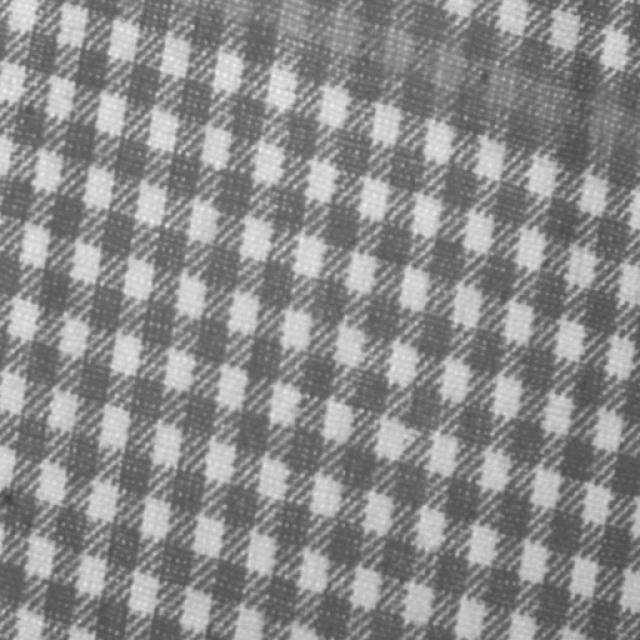Stain-Defect: (165, 2, 639, 147)
